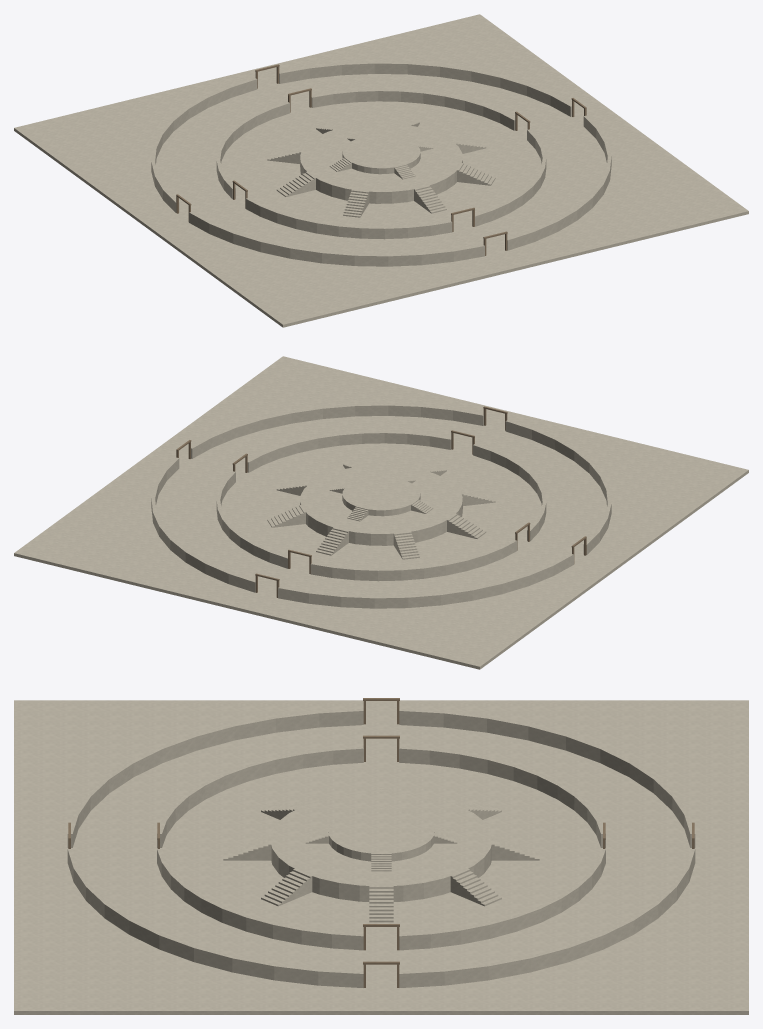
File: south-altar-A-LOD1.glb
3 renders of one model, top to bottom at view 1: azimuth 30°, elevation 25°; view 2: azimuth 150°, elevation 25°; view 3: azimuth 270°, elevation 25°, orthographic. The views are drawn at different scales.
Visible parts, largest first — view 1: A_presentation_ground, A_lower_platform_with_stairs, A_outer_earth_enclosure.002, A_outer_earth_enclosure, A_upper_platform_with_stairs, A_inner_earth_enclosure.002, A_inner_earth_enclosure, A_outer_earth_enclosure.001, A_outer_earth_enclosure.003, A_inner_earth_enclosure.003, A_inner_earth_enclosure.001; view 2: A_presentation_ground, A_lower_platform_with_stairs, A_outer_earth_enclosure.001, A_outer_earth_enclosure.003, A_upper_platform_with_stairs, A_inner_earth_enclosure.001, A_inner_earth_enclosure.003, A_outer_earth_enclosure, A_outer_earth_enclosure.002, A_inner_earth_enclosure, A_inner_earth_enclosure.002; view 3: A_presentation_ground, A_lower_platform_with_stairs, A_upper_platform_with_stairs, A_outer_earth_enclosure, A_outer_earth_enclosure.003, A_outer_earth_enclosure.001, A_outer_earth_enclosure.002, A_inner_earth_enclosure, A_inner_earth_enclosure.003, A_inner_earth_enclosure.001, A_inner_earth_enclosure.002.
Boxes of the visible parts, x1,y1,x2,y2 form: A_presentation_ground: [14, 14, 748, 327]; A_lower_platform_with_stairs: [267, 120, 495, 217]; A_outer_earth_enclosure.002: [189, 212, 484, 266]; A_outer_earth_enclosure: [279, 62, 571, 116]; A_upper_platform_with_stairs: [329, 135, 433, 179]; A_inner_earth_enclosure.002: [245, 198, 452, 239]; A_inner_earth_enclosure: [311, 89, 515, 130]; A_outer_earth_enclosure.001: [151, 78, 257, 212]; A_outer_earth_enclosure.003: [507, 115, 611, 250]; A_inner_earth_enclosure.003: [475, 129, 546, 226]; A_inner_earth_enclosure.001: [216, 102, 289, 199]; A_presentation_ground: [14, 356, 748, 669]; A_lower_platform_with_stairs: [267, 462, 495, 559]; A_outer_earth_enclosure.001: [278, 554, 573, 608]; A_outer_earth_enclosure.003: [191, 404, 483, 458]; A_upper_platform_with_stairs: [329, 477, 433, 521]; A_inner_earth_enclosure.001: [310, 540, 517, 581]; A_inner_earth_enclosure.003: [247, 431, 451, 472]; A_outer_earth_enclosure: [151, 457, 255, 592]; A_outer_earth_enclosure.002: [505, 420, 611, 554]; A_inner_earth_enclosure: [216, 471, 287, 568]; A_inner_earth_enclosure.002: [473, 444, 546, 541]; A_presentation_ground: [14, 700, 748, 1014]; A_lower_platform_with_stairs: [223, 787, 539, 922]; A_upper_platform_with_stairs: [305, 806, 457, 871]; A_outer_earth_enclosure: [399, 849, 695, 987]; A_outer_earth_enclosure.003: [67, 849, 363, 987]; A_outer_earth_enclosure.001: [399, 708, 695, 847]; A_outer_earth_enclosure.002: [67, 708, 363, 847]; A_inner_earth_enclosure: [399, 849, 605, 950]; A_inner_earth_enclosure.003: [157, 849, 363, 950]; A_inner_earth_enclosure.001: [399, 746, 605, 847]; A_inner_earth_enclosure.002: [157, 746, 363, 847].
Size of the model in its own units: 66 by 2.89 by 66.
Materials: 2 (2 with a texture image).
